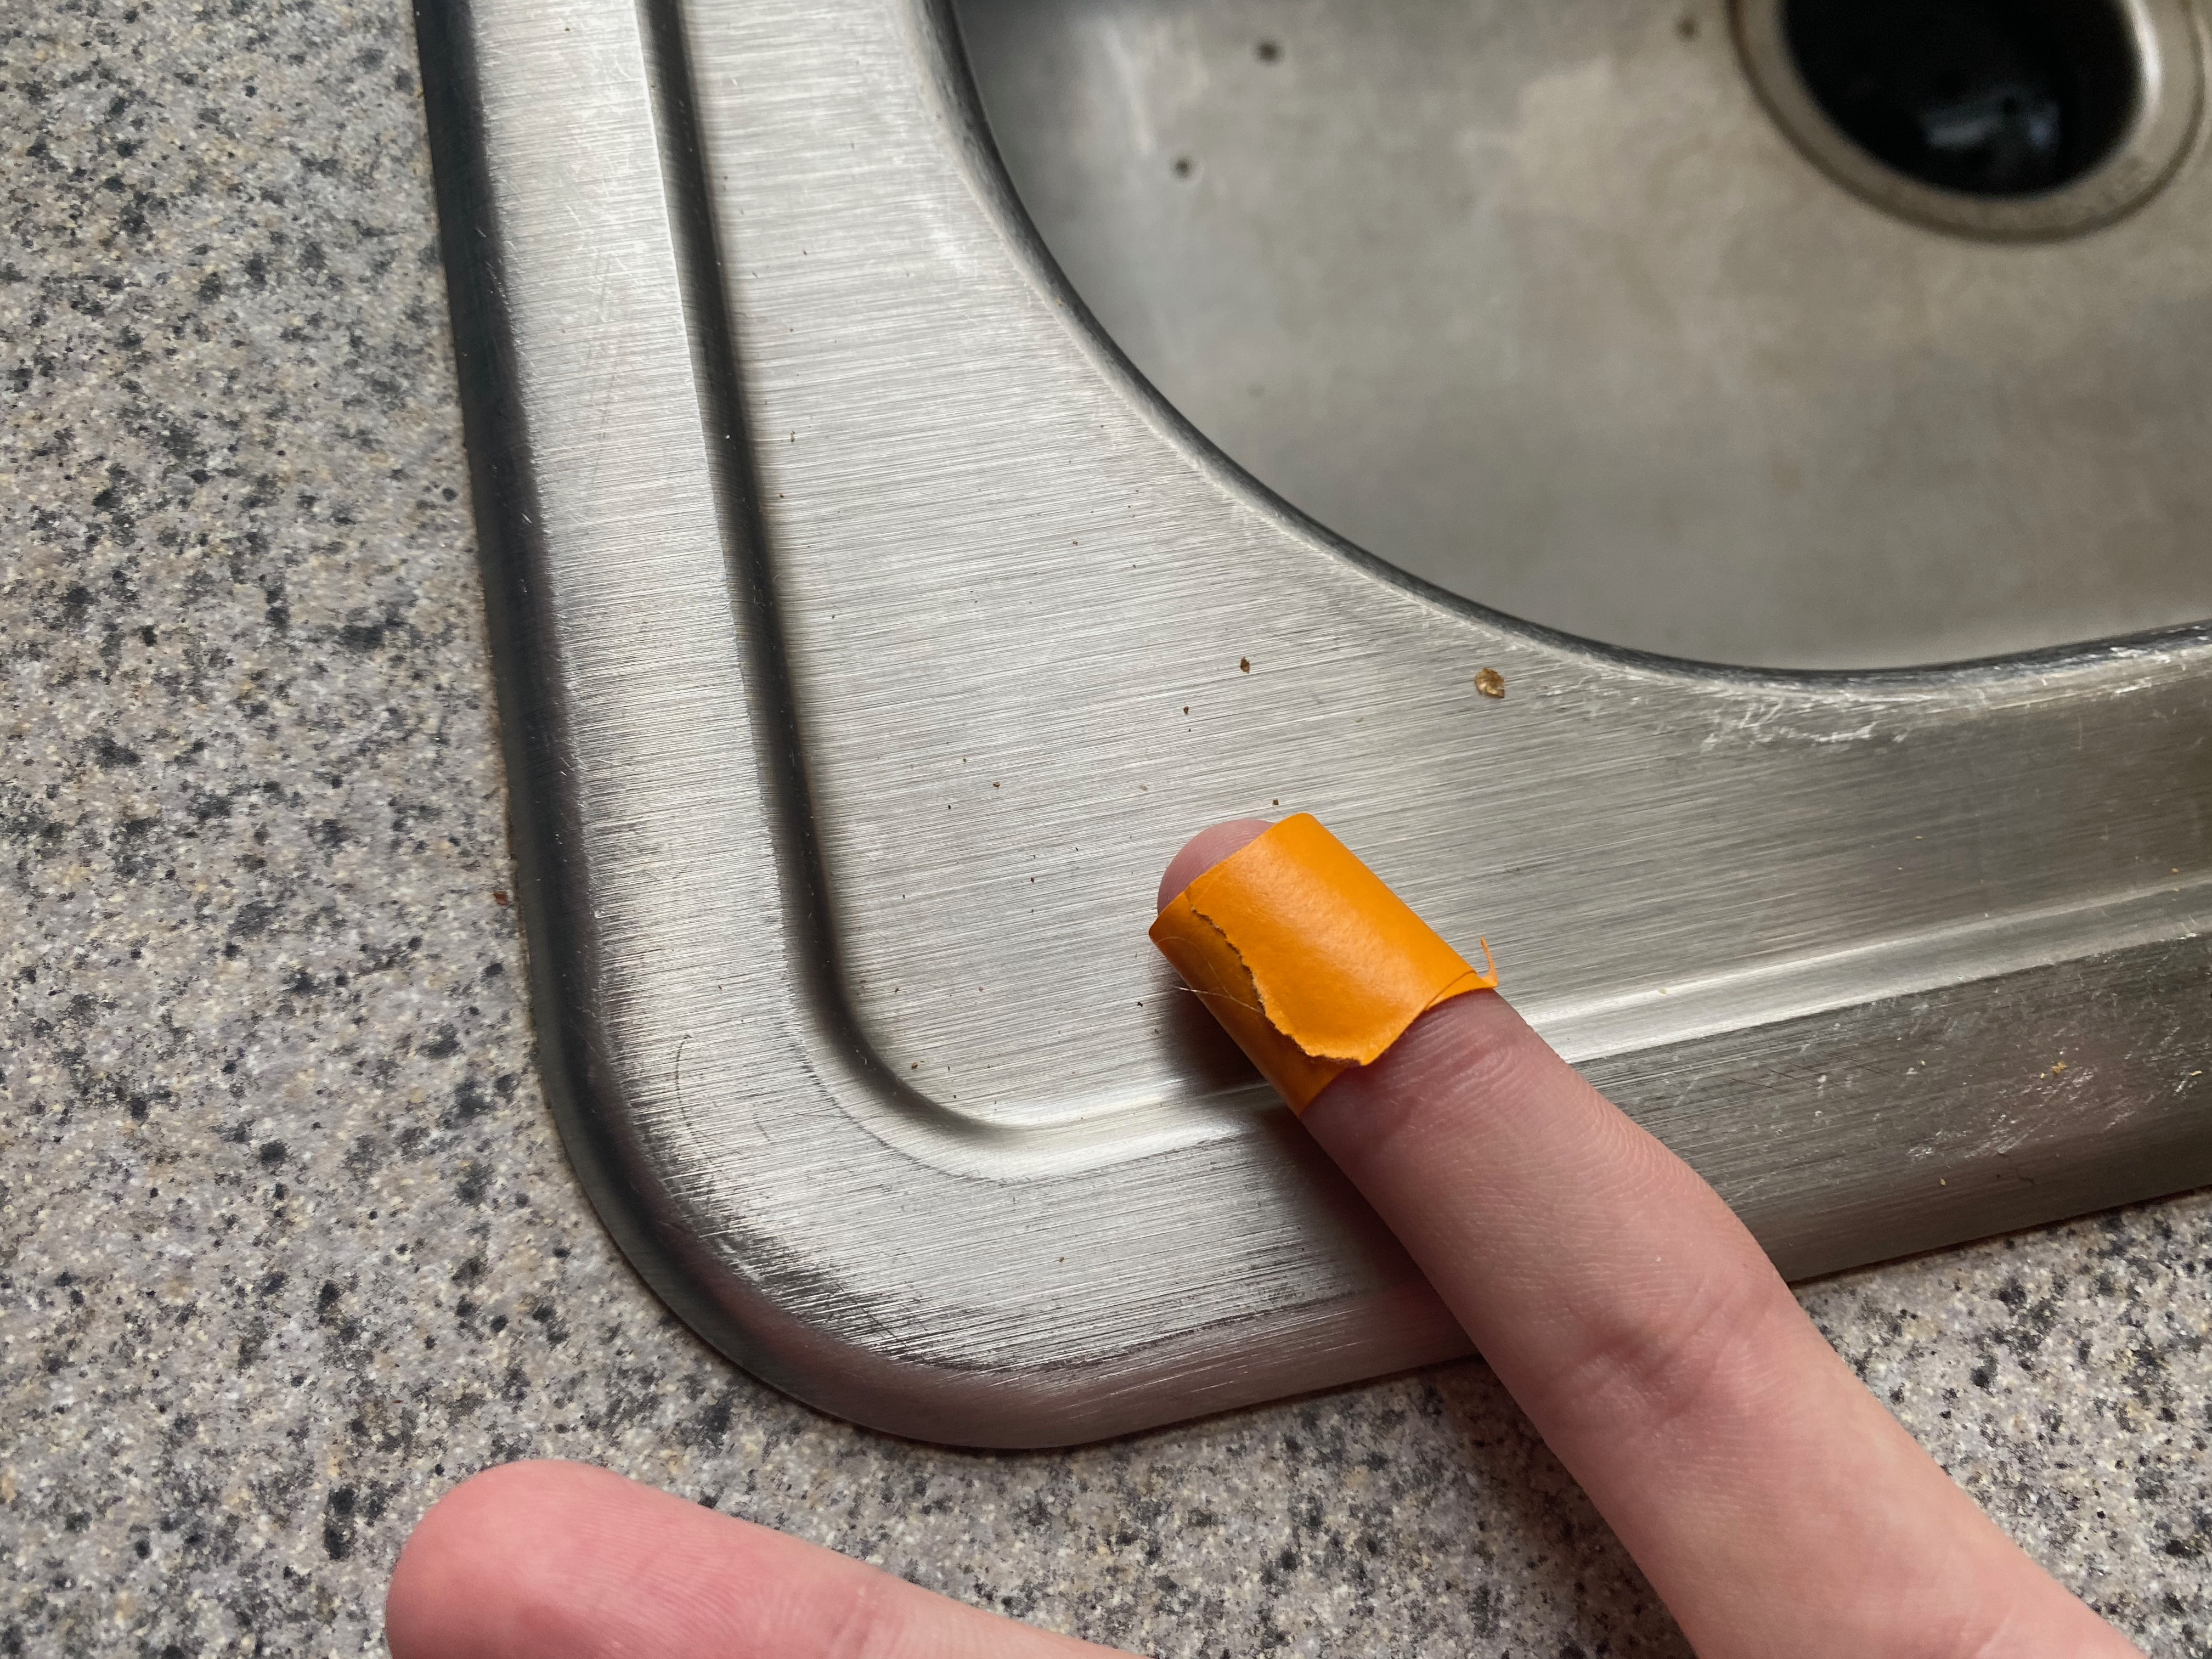fingertip: (1132, 791, 1613, 1138)
